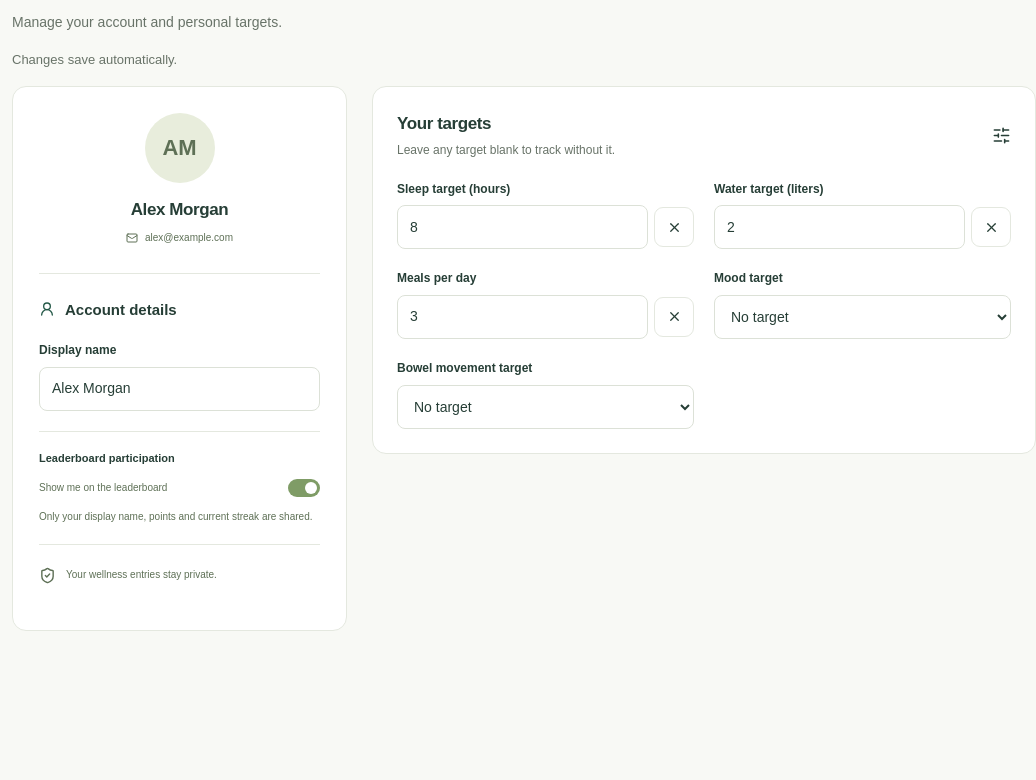
Test: autosaves account edits and participation without a save button or timezone picker
The width and height of the screenshot is (1036, 780).
Click the switch.
click(103, 487)  # box [39,479,320,497]
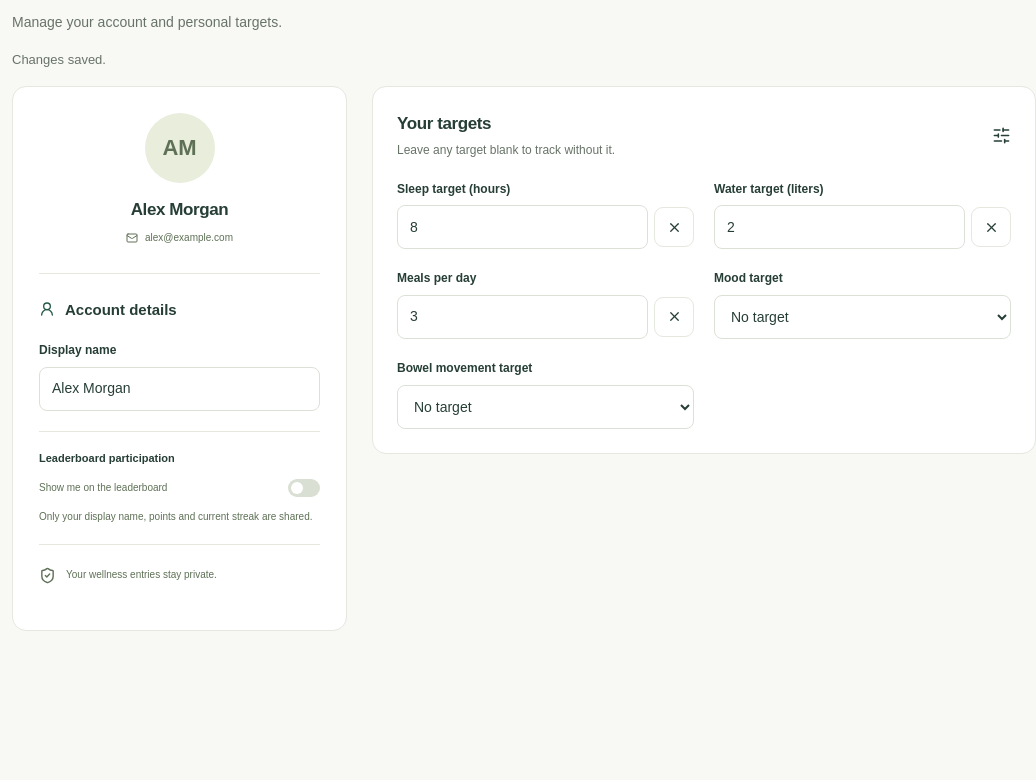
Expected: the text "Changes saved." is shown, [12,52,106,67]
